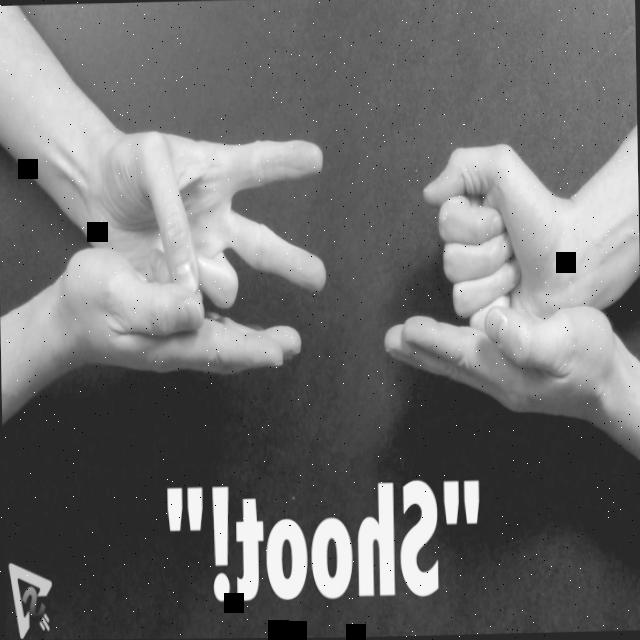Rock: (420, 144, 572, 336)
Scissors: (85, 124, 327, 325)
